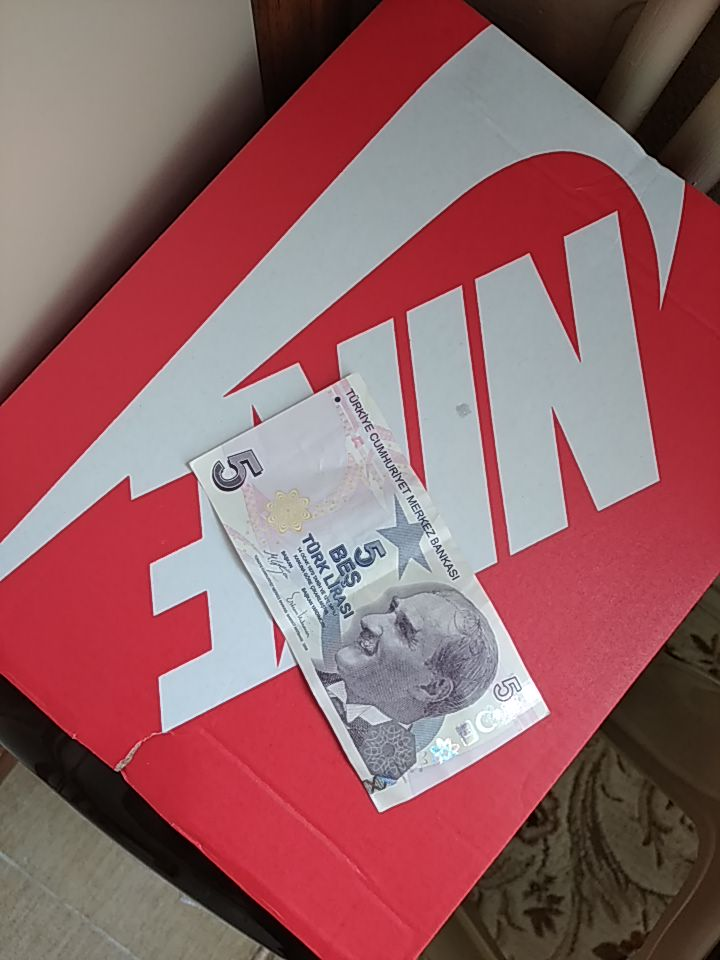5TL: (187, 369, 555, 818)
